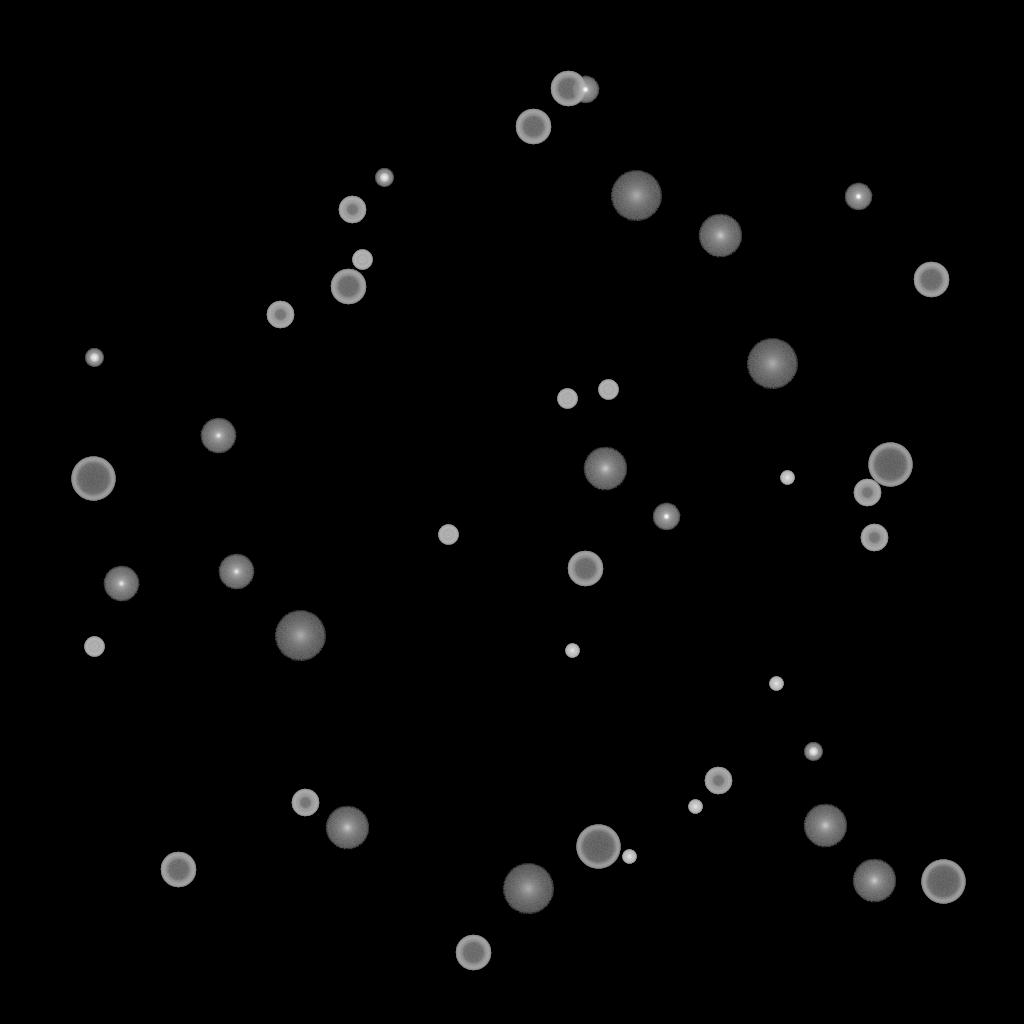depth:-10: (844, 183, 872, 211), (571, 76, 599, 104), (652, 503, 680, 531)
depth:-20: (804, 743, 822, 761), (375, 169, 393, 187), (85, 349, 103, 367)
depth:-30: (622, 850, 636, 864), (769, 677, 783, 691), (780, 471, 794, 485), (565, 644, 579, 658), (688, 800, 702, 814)
depth:-40: (352, 250, 372, 270), (598, 380, 618, 400), (557, 389, 577, 409), (438, 525, 458, 545), (84, 637, 104, 657)
depth:-50: (291, 789, 319, 817), (853, 479, 881, 507), (860, 524, 888, 552), (266, 301, 294, 329), (704, 767, 732, 795), (338, 196, 366, 224)
depth:-60: (455, 935, 491, 971), (160, 852, 196, 888), (330, 269, 366, 305), (515, 109, 551, 145), (913, 262, 949, 298), (550, 71, 586, 107), (567, 551, 603, 587)
depth:-70: (868, 443, 912, 487), (921, 860, 965, 904), (71, 457, 115, 501), (576, 825, 620, 869)
depth:0: (200, 418, 236, 454), (218, 554, 254, 590), (103, 566, 139, 602)
depth:10: (803, 804, 847, 848), (325, 806, 369, 850), (852, 859, 896, 903), (583, 447, 627, 491), (698, 214, 742, 258)
depth:20: (502, 864, 554, 914), (610, 171, 662, 221), (746, 339, 798, 389), (274, 611, 326, 661)
